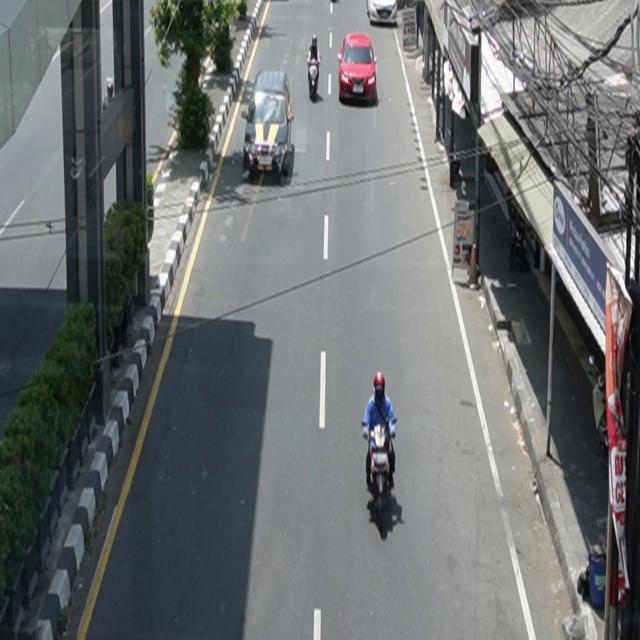car: (242, 70, 296, 179), (338, 33, 379, 106), (367, 1, 399, 26)
